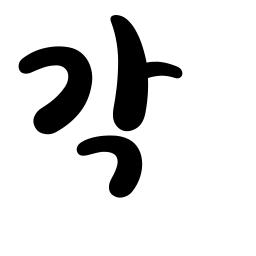gaji: (106, 53, 160, 93)
